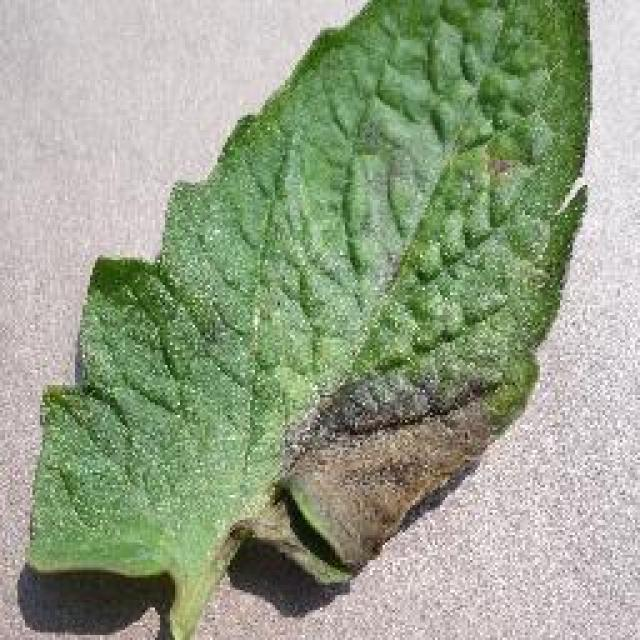Tomato___Late_blight: (30, 0, 590, 638)
